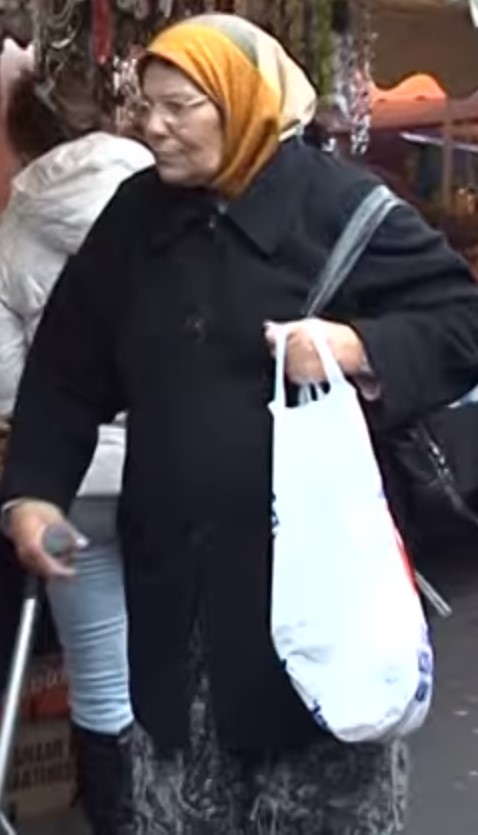face_no_mask: (139, 22, 248, 202)
